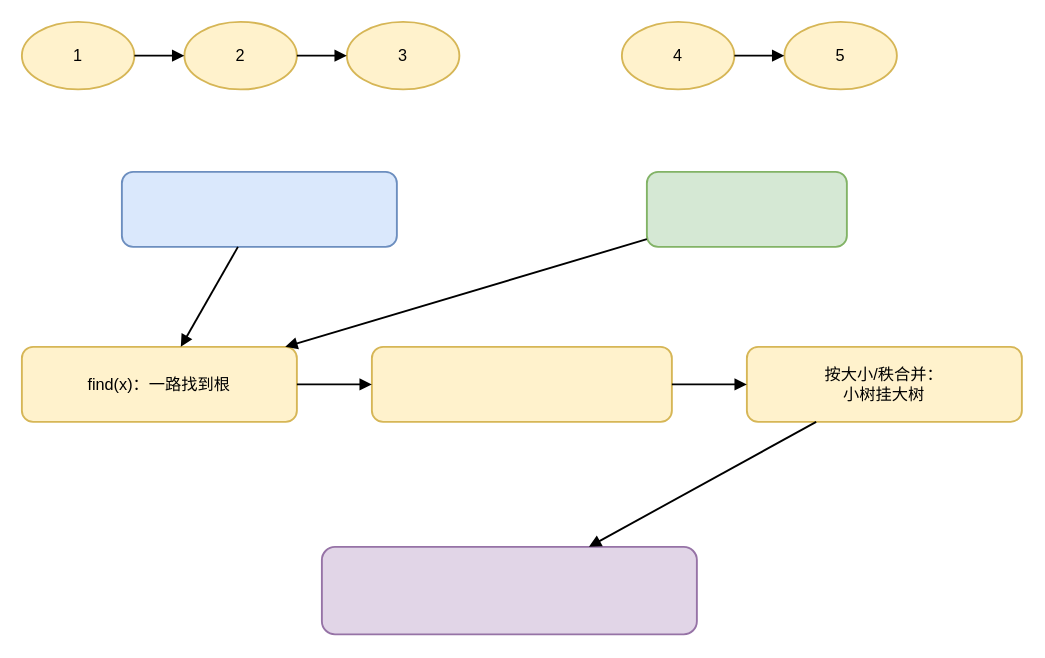
The diagram is 1045 pixels wide and 658 high, and some of its shapes have lost their labels. The shapes that lost their labels are listed below. From the top down, each one's centre as x and y in pixels, then its label:
At point 258,208: "union(1,2) union(2,3)".
At point 746,208: "union(4,5)".
At point 521,383: "路径压缩：沿途节点 直接挂到根".
At point 508,590: "结果：维护连通分量 近似 O(1) 均摊".
